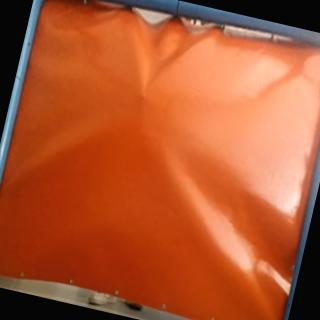Hit-hRxx: (134, 86, 152, 108)
